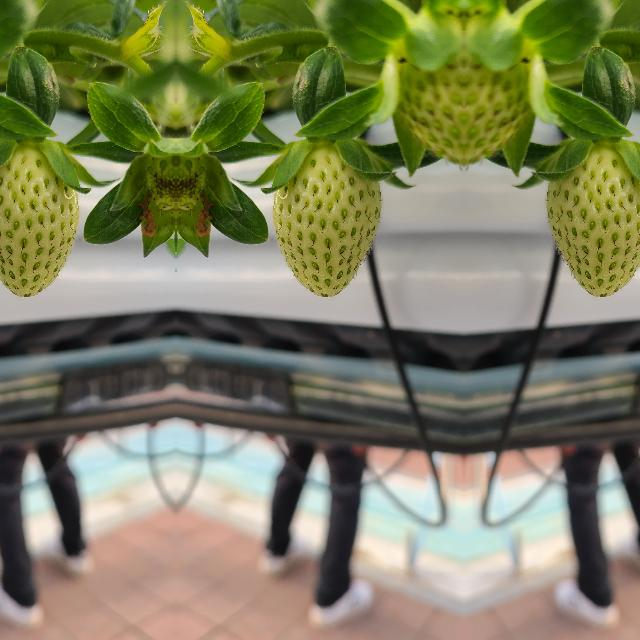Health_25: (270, 144, 382, 300), (544, 144, 640, 299), (0, 144, 80, 299)
